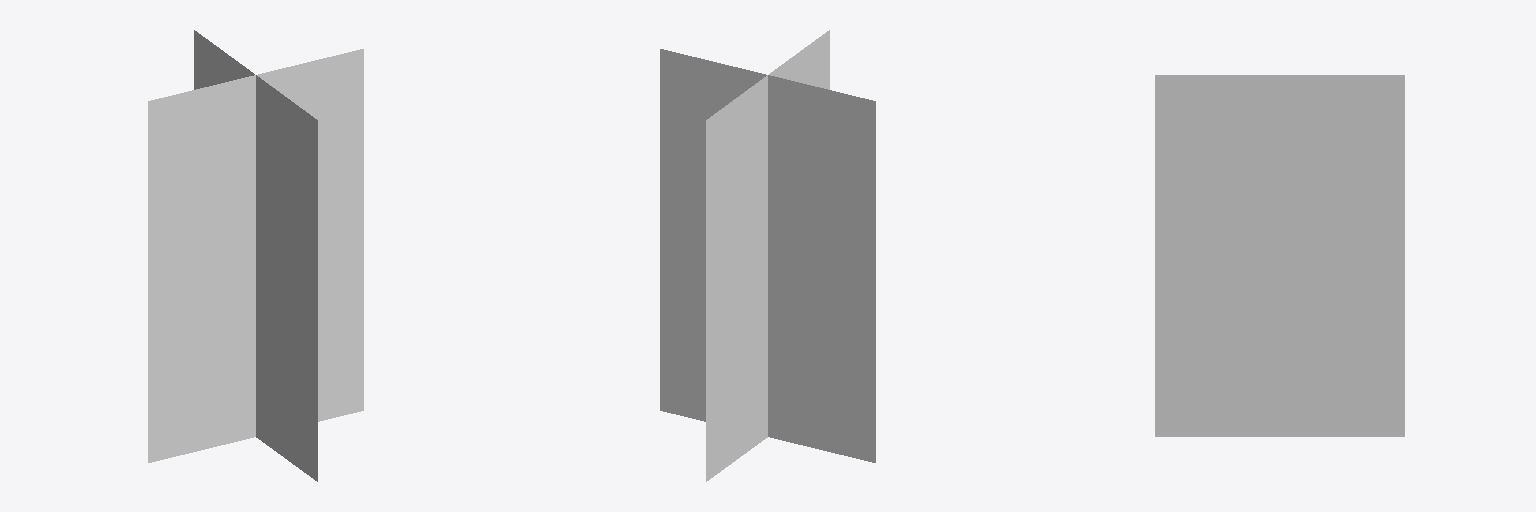
Rendered from Conker_Tree_Fan_0.obj.
3 renders of one model, left to right at view 1: azimuth 30°, elevation 25°; view 2: azimuth 150°, elevation 25°; view 3: azimuth 270°, elevation 25°, orthographic.
Parts seen in each view (by area): view 1: CreateFan; view 2: CreateFan; view 3: CreateFan.
Part boxes in pixels (bbox=[...]): CreateFan: bbox=[148, 30, 363, 481]; CreateFan: bbox=[660, 30, 875, 481]; CreateFan: bbox=[1155, 75, 1404, 436].
Size of the model in its own units: 18.74 by 30 by 18.74.